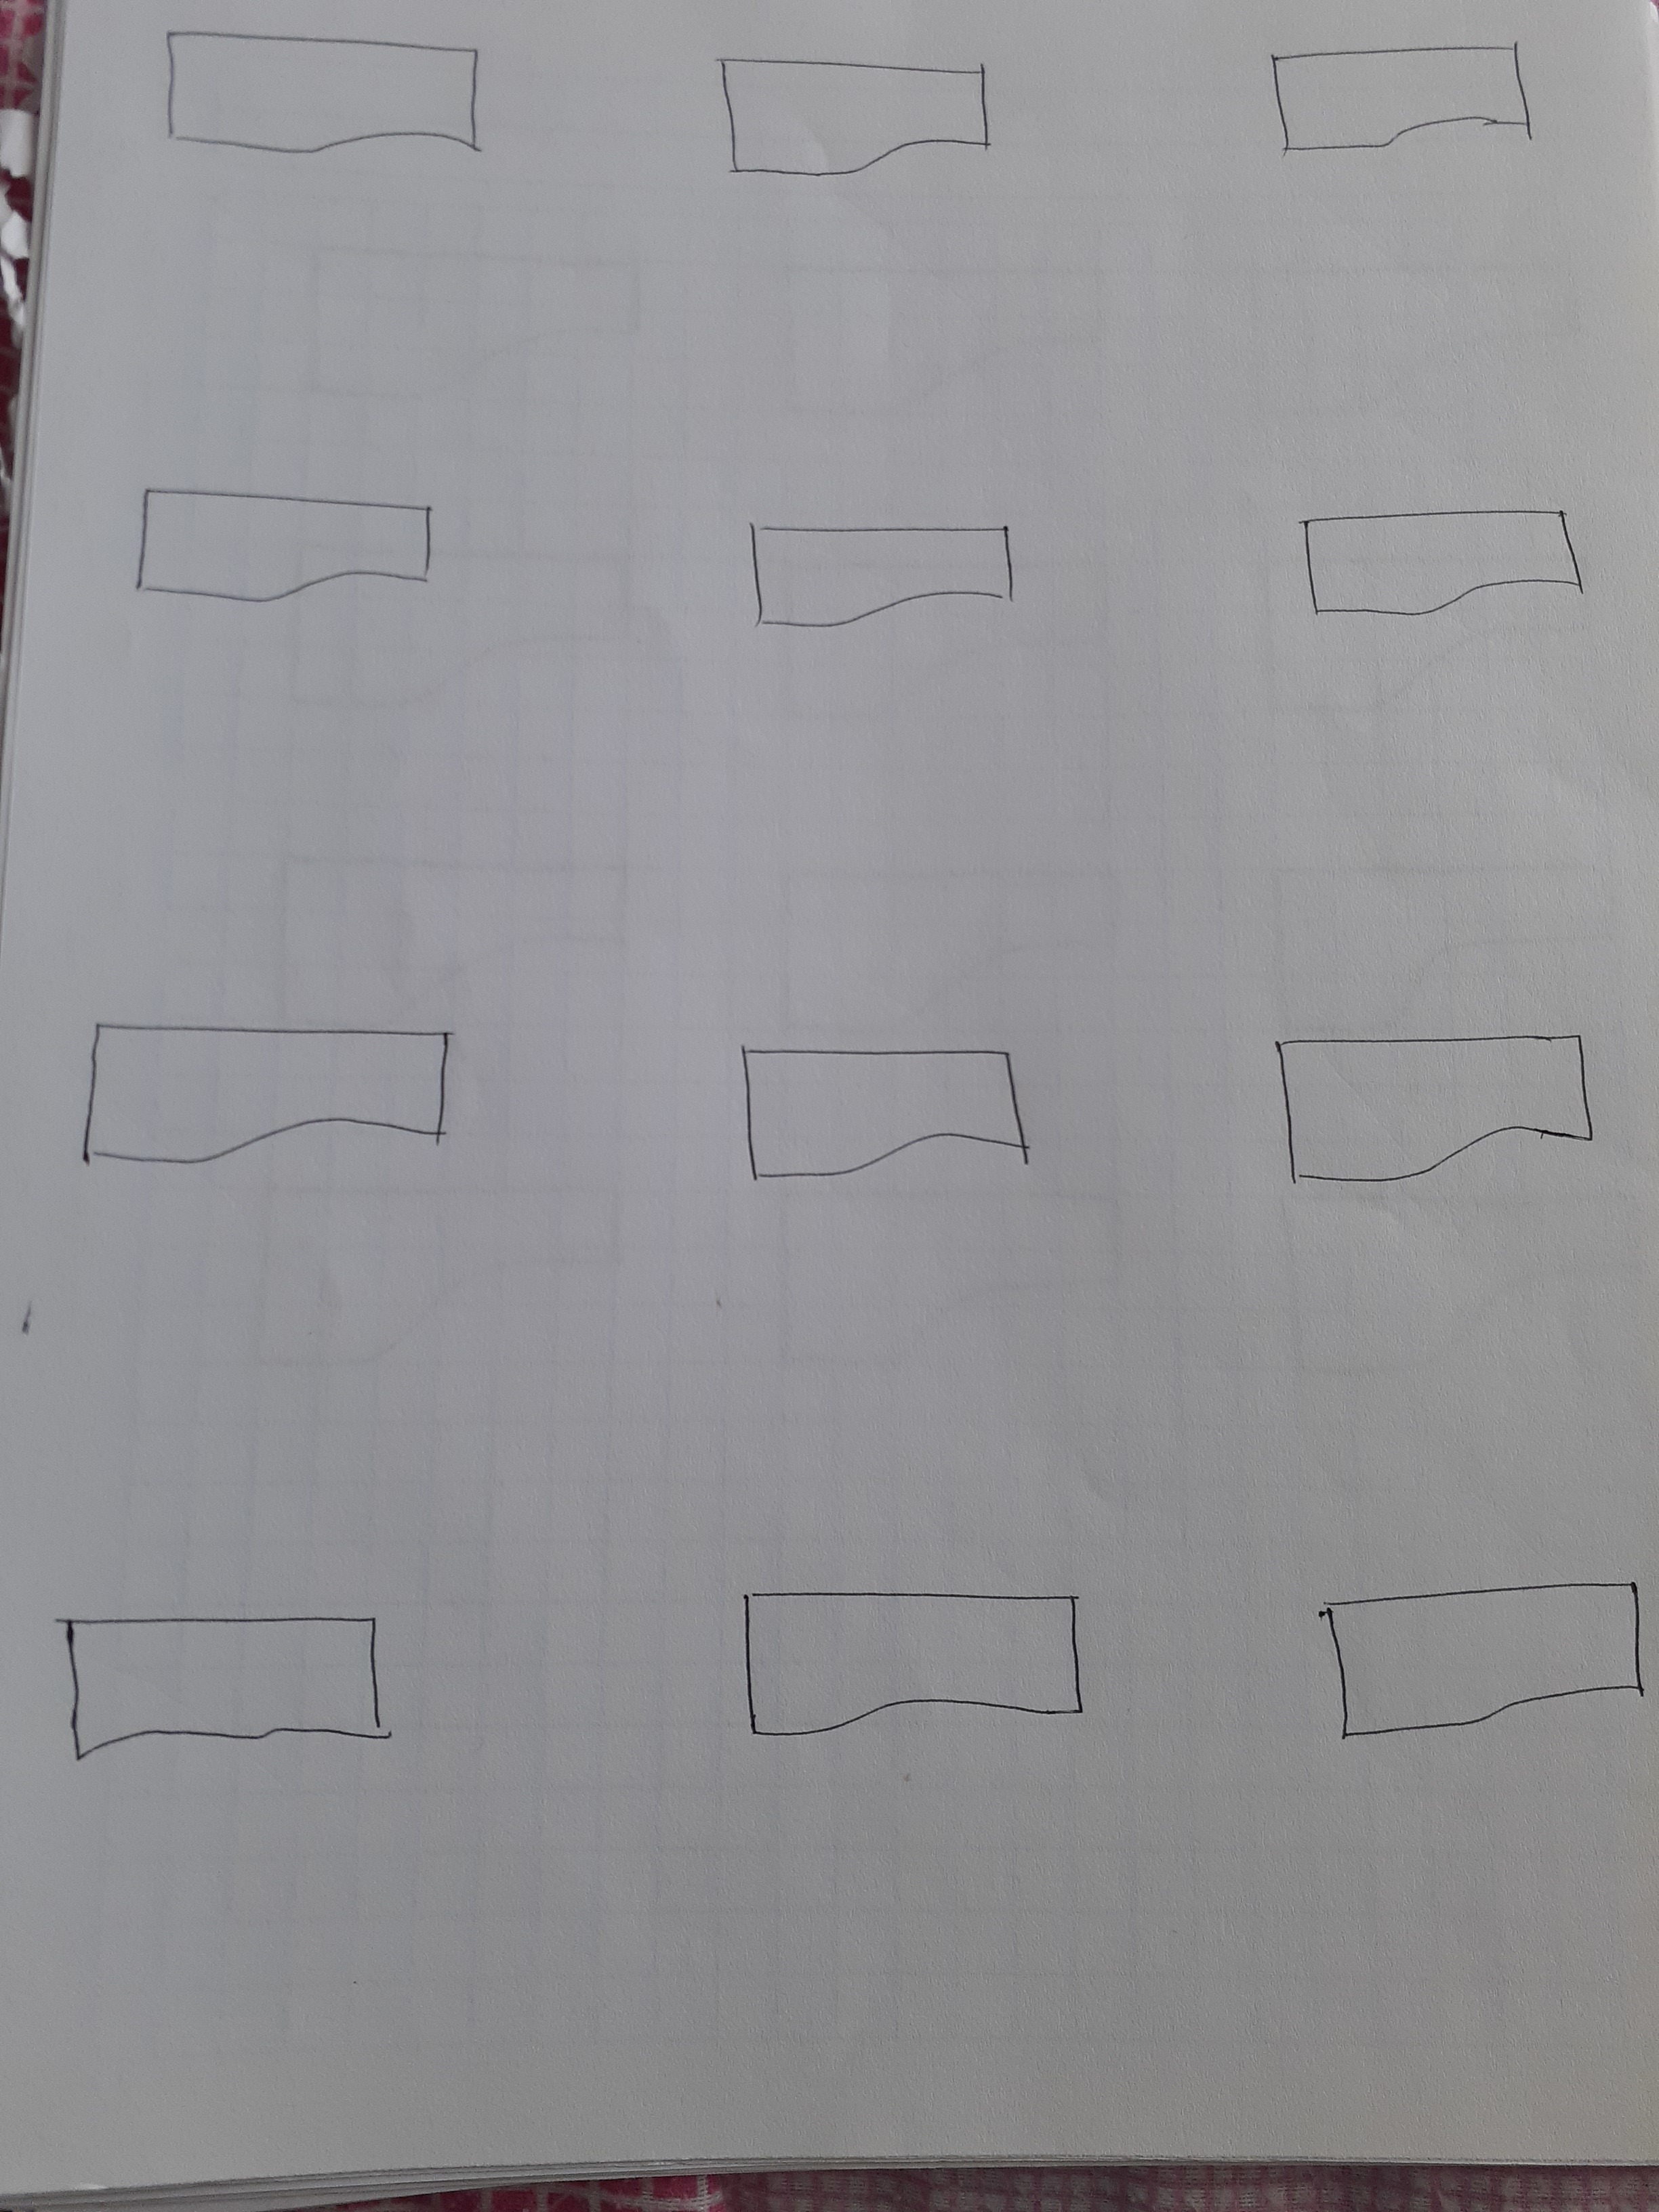print: (35, 981, 484, 1249), (702, 1550, 1140, 1818), (38, 1550, 404, 1808), (720, 995, 1122, 1228), (1276, 1536, 1654, 1780), (115, 446, 448, 686), (728, 462, 1051, 705), (146, 5, 544, 202), (1251, 493, 1631, 672), (1251, 1001, 1610, 1188), (706, 24, 1004, 221), (1251, 24, 1563, 199)
